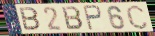2: (43, 6, 63, 31)
6: (106, 4, 126, 30)
B: (18, 7, 43, 32), (61, 6, 86, 31)
C: (125, 4, 150, 31)
P: (82, 4, 104, 31)
